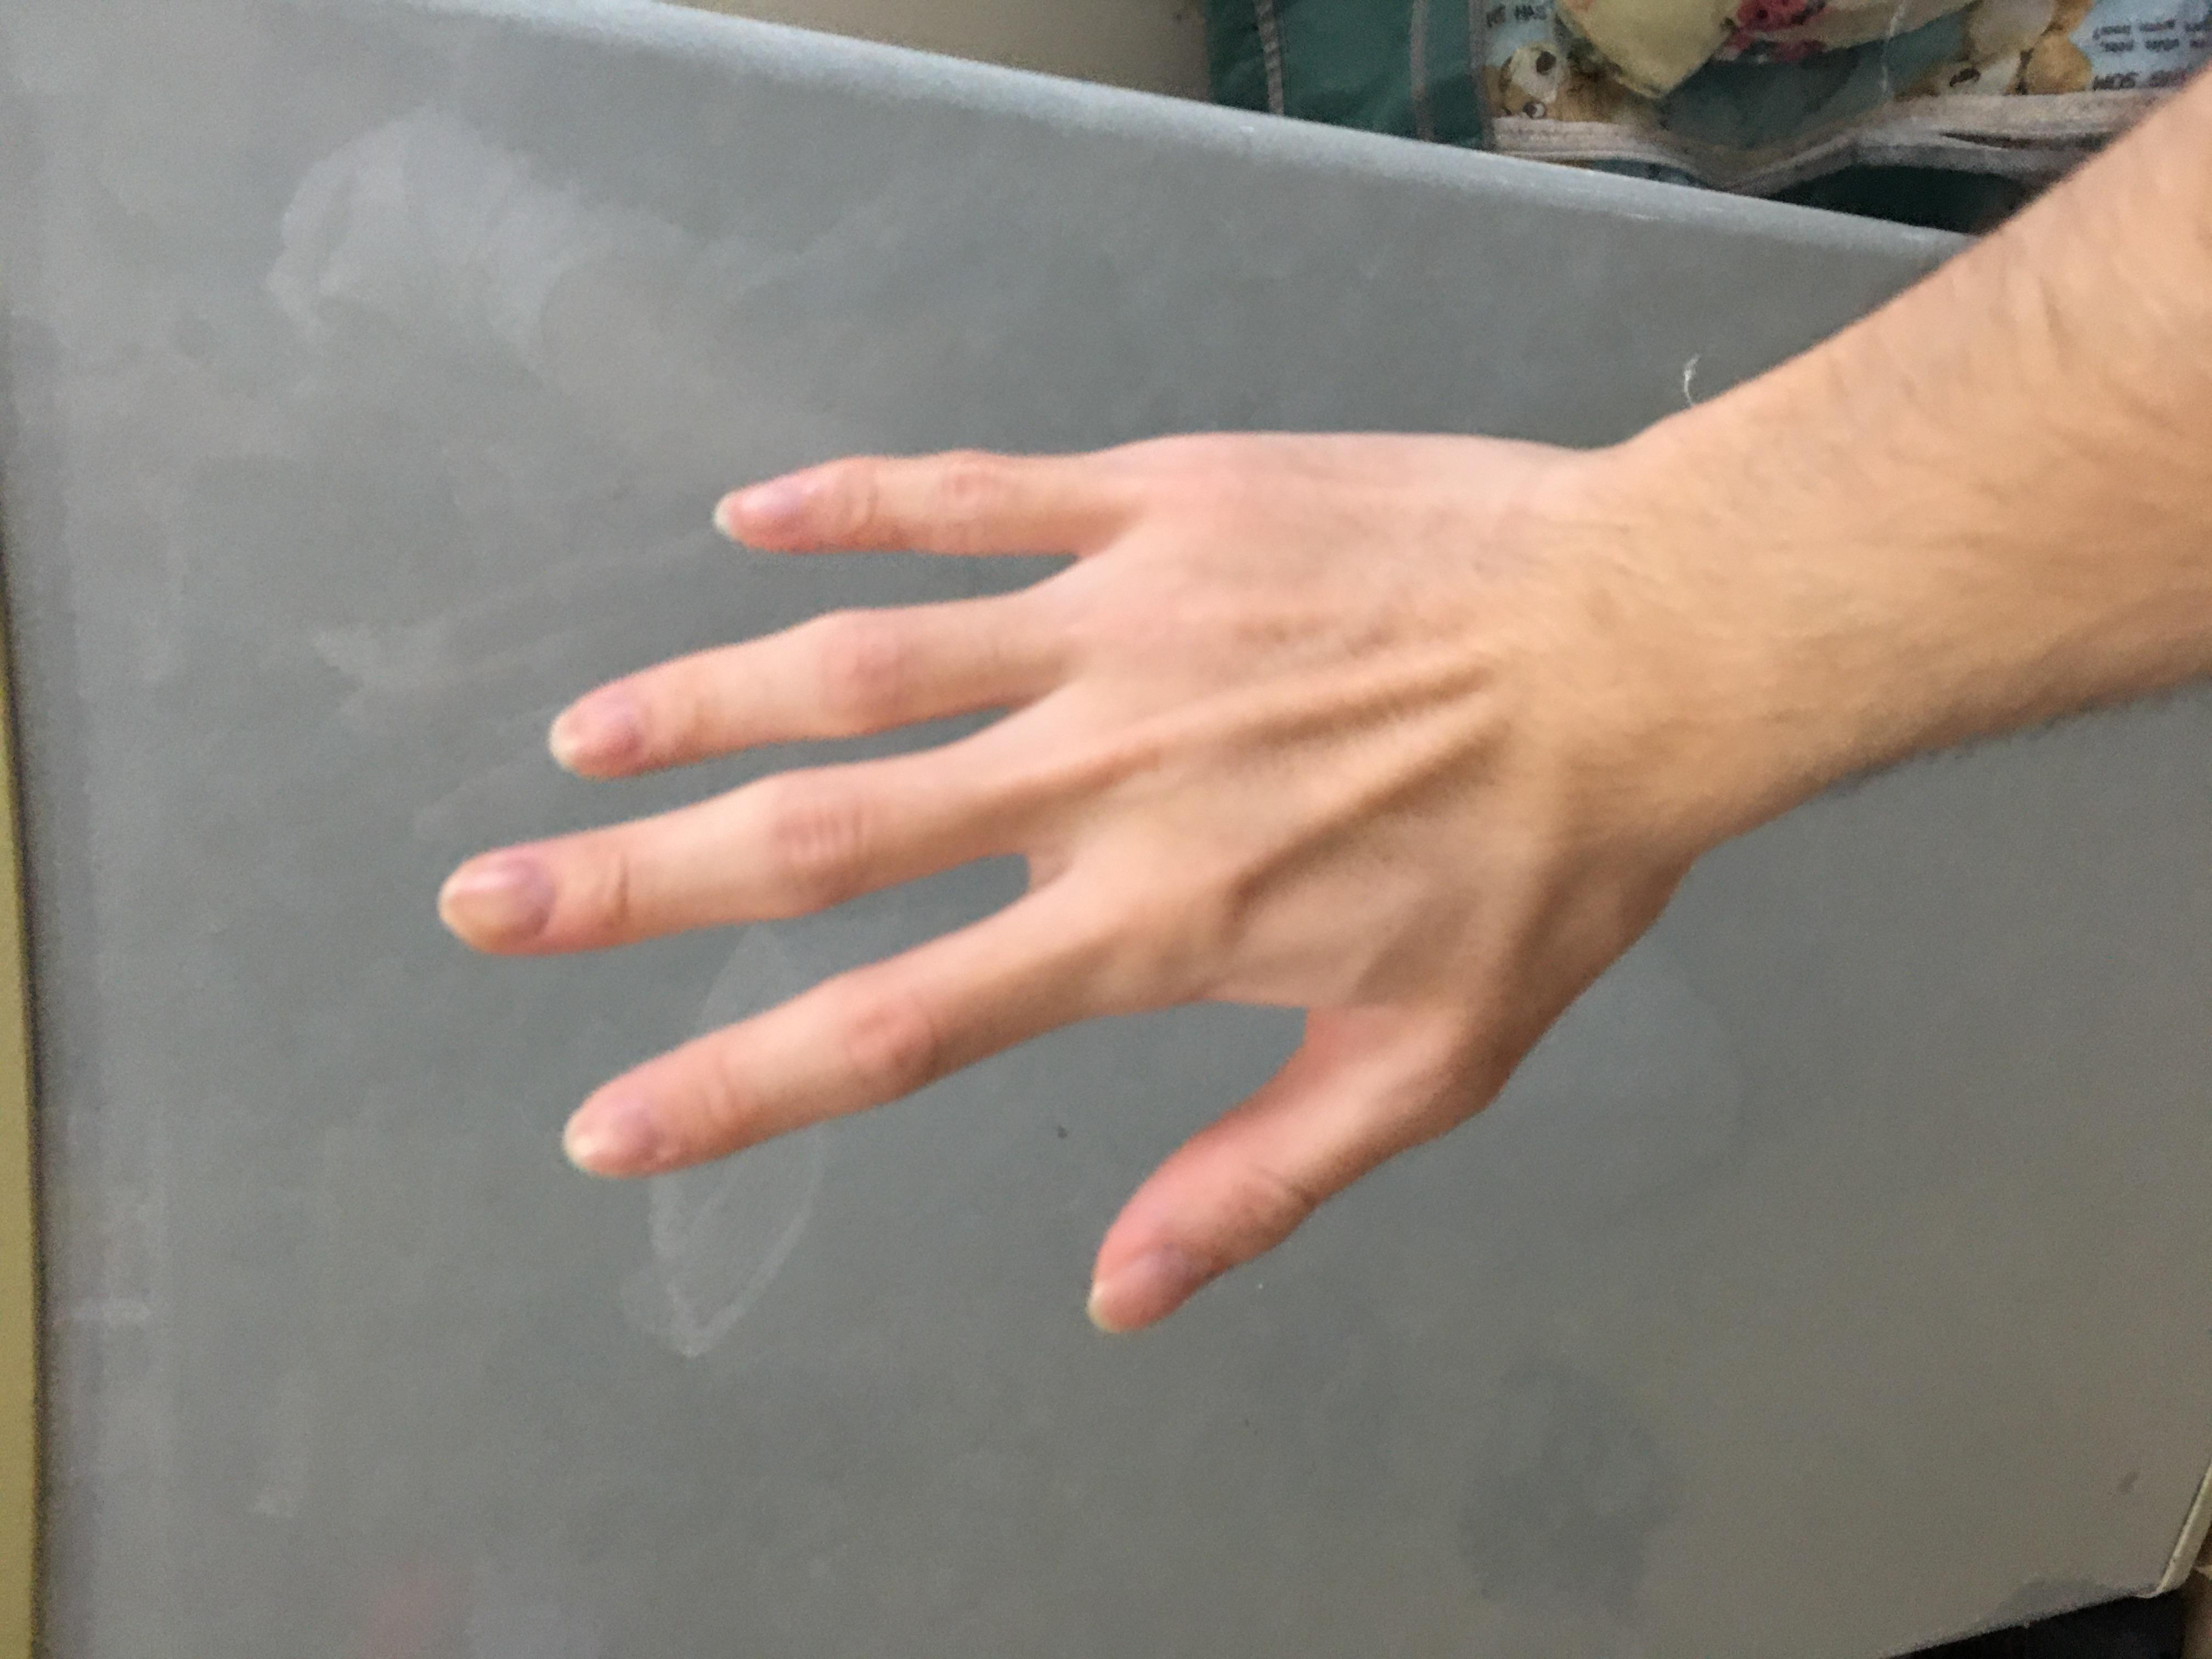hand: (425, 317, 1665, 1246)
